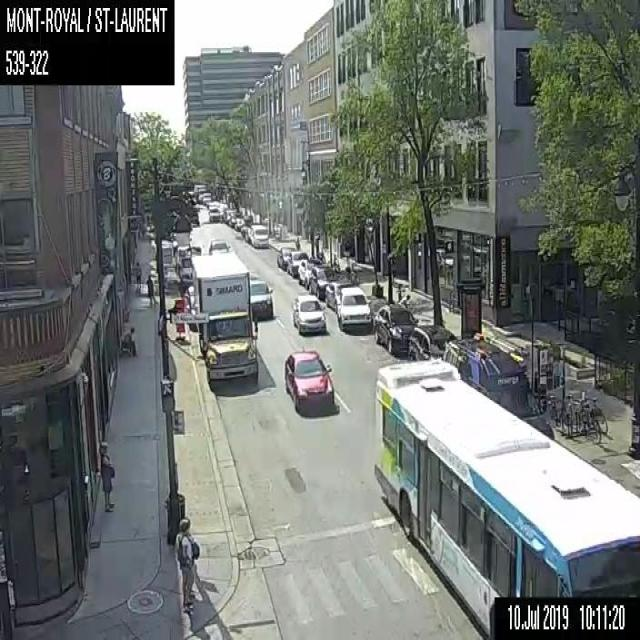bus: (374, 355, 639, 639)
construction: (174, 298, 186, 340)
pedestrian: (173, 517, 198, 611), (98, 440, 114, 509), (121, 324, 137, 356), (145, 274, 153, 302), (397, 292, 411, 308), (134, 259, 141, 288), (294, 234, 300, 249)
vehicle: (442, 331, 554, 438), (190, 250, 258, 383), (282, 347, 334, 409), (373, 303, 418, 352), (408, 324, 457, 361), (337, 285, 373, 329), (292, 293, 326, 332), (176, 244, 200, 284), (309, 264, 337, 298), (325, 280, 353, 312), (250, 280, 272, 320), (297, 258, 323, 289), (286, 250, 307, 276), (250, 222, 269, 248), (276, 246, 295, 269), (208, 239, 231, 254), (193, 183, 207, 202), (222, 207, 234, 223), (208, 206, 219, 222), (233, 216, 244, 230), (240, 224, 250, 237), (218, 202, 227, 214), (202, 192, 211, 204), (207, 199, 218, 208), (244, 228, 251, 241), (228, 216, 235, 227)
